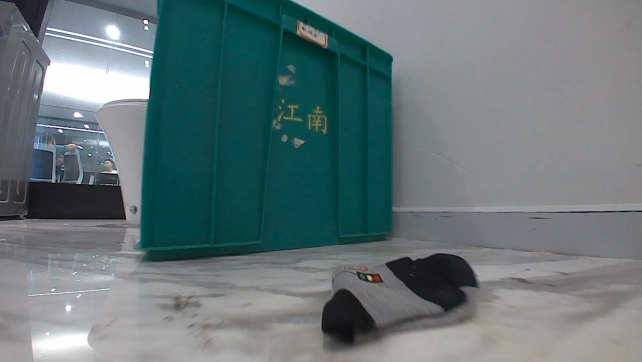socks: (318, 250, 482, 350)
toilet: (91, 95, 149, 227)
washing_machine1: (0, 0, 54, 221)
